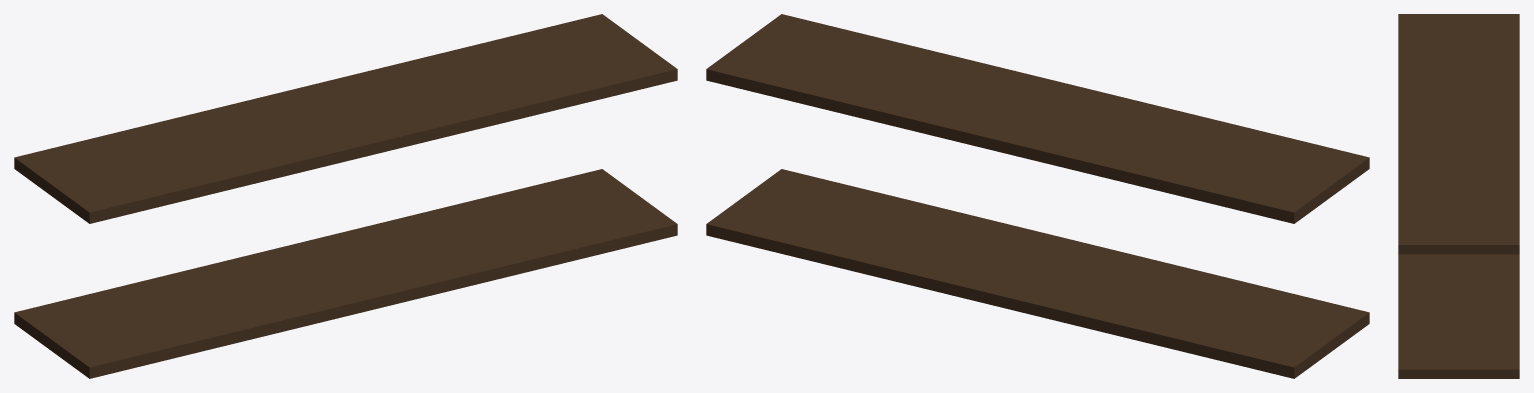
File: Shelves_Temp.fbx
3 views of the same model, side by side, from view 1: azimuth 30°, elevation 25°; view 2: azimuth 150°, elevation 25°; view 3: azimuth 270°, elevation 25° (orthographic). The views are drawn at different scales.
Parts seen in each view (by area): view 1: polySurface3; view 2: polySurface3; view 3: polySurface3.
Part boxes in pixels (x1,y1,x2,y2): polySurface3: (14,14,677,378); polySurface3: (706,14,1369,378); polySurface3: (1398,14,1519,378).
Size of the model in its own units: 267 by 72.09 by 59.19.
